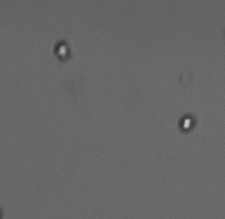Living Cell: (51, 38, 73, 60), (178, 113, 196, 133)
